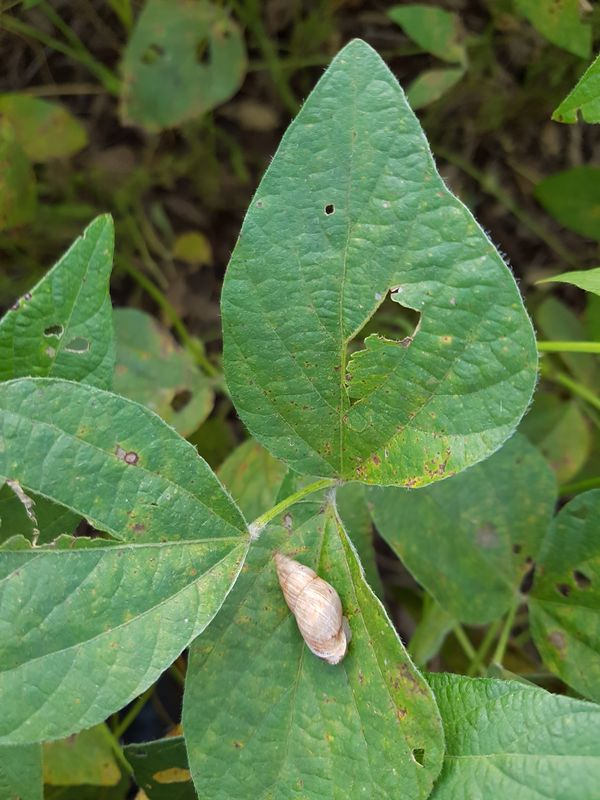Gastropoda: (255, 542, 374, 678)
